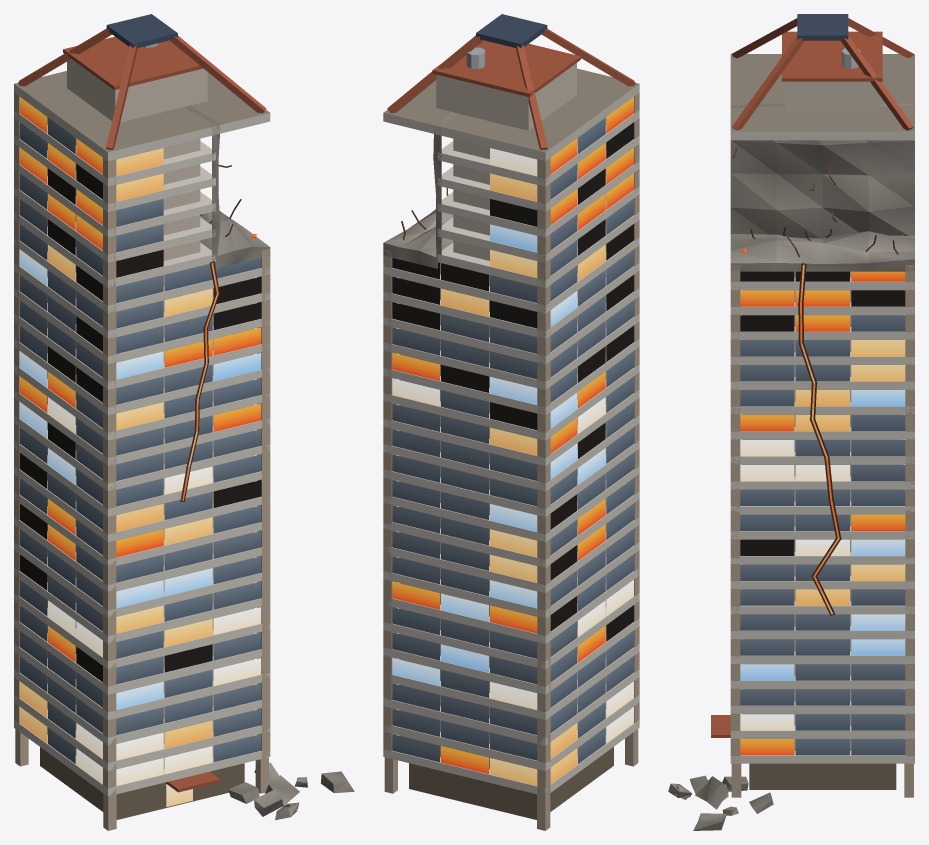
The model's file is bld_apt_C_damaged.meshopt.glb.
3 views of the same model, side by side, from view 1: azimuth 30°, elevation 25°; view 2: azimuth 150°, elevation 25°; view 3: azimuth 270°, elevation 25° (orthographic).
Visible parts, largest first — view 1: bld_apt_C_damaged; view 2: bld_apt_C_damaged; view 3: bld_apt_C_damaged.
Boxes of the visible parts, bbox=[...] form: bld_apt_C_damaged: bbox=[14, 14, 354, 830]; bld_apt_C_damaged: bbox=[383, 14, 639, 830]; bld_apt_C_damaged: bbox=[668, 14, 914, 830].
Bounding box in the file's own units: 27.33 × 86.2 × 26.01.
